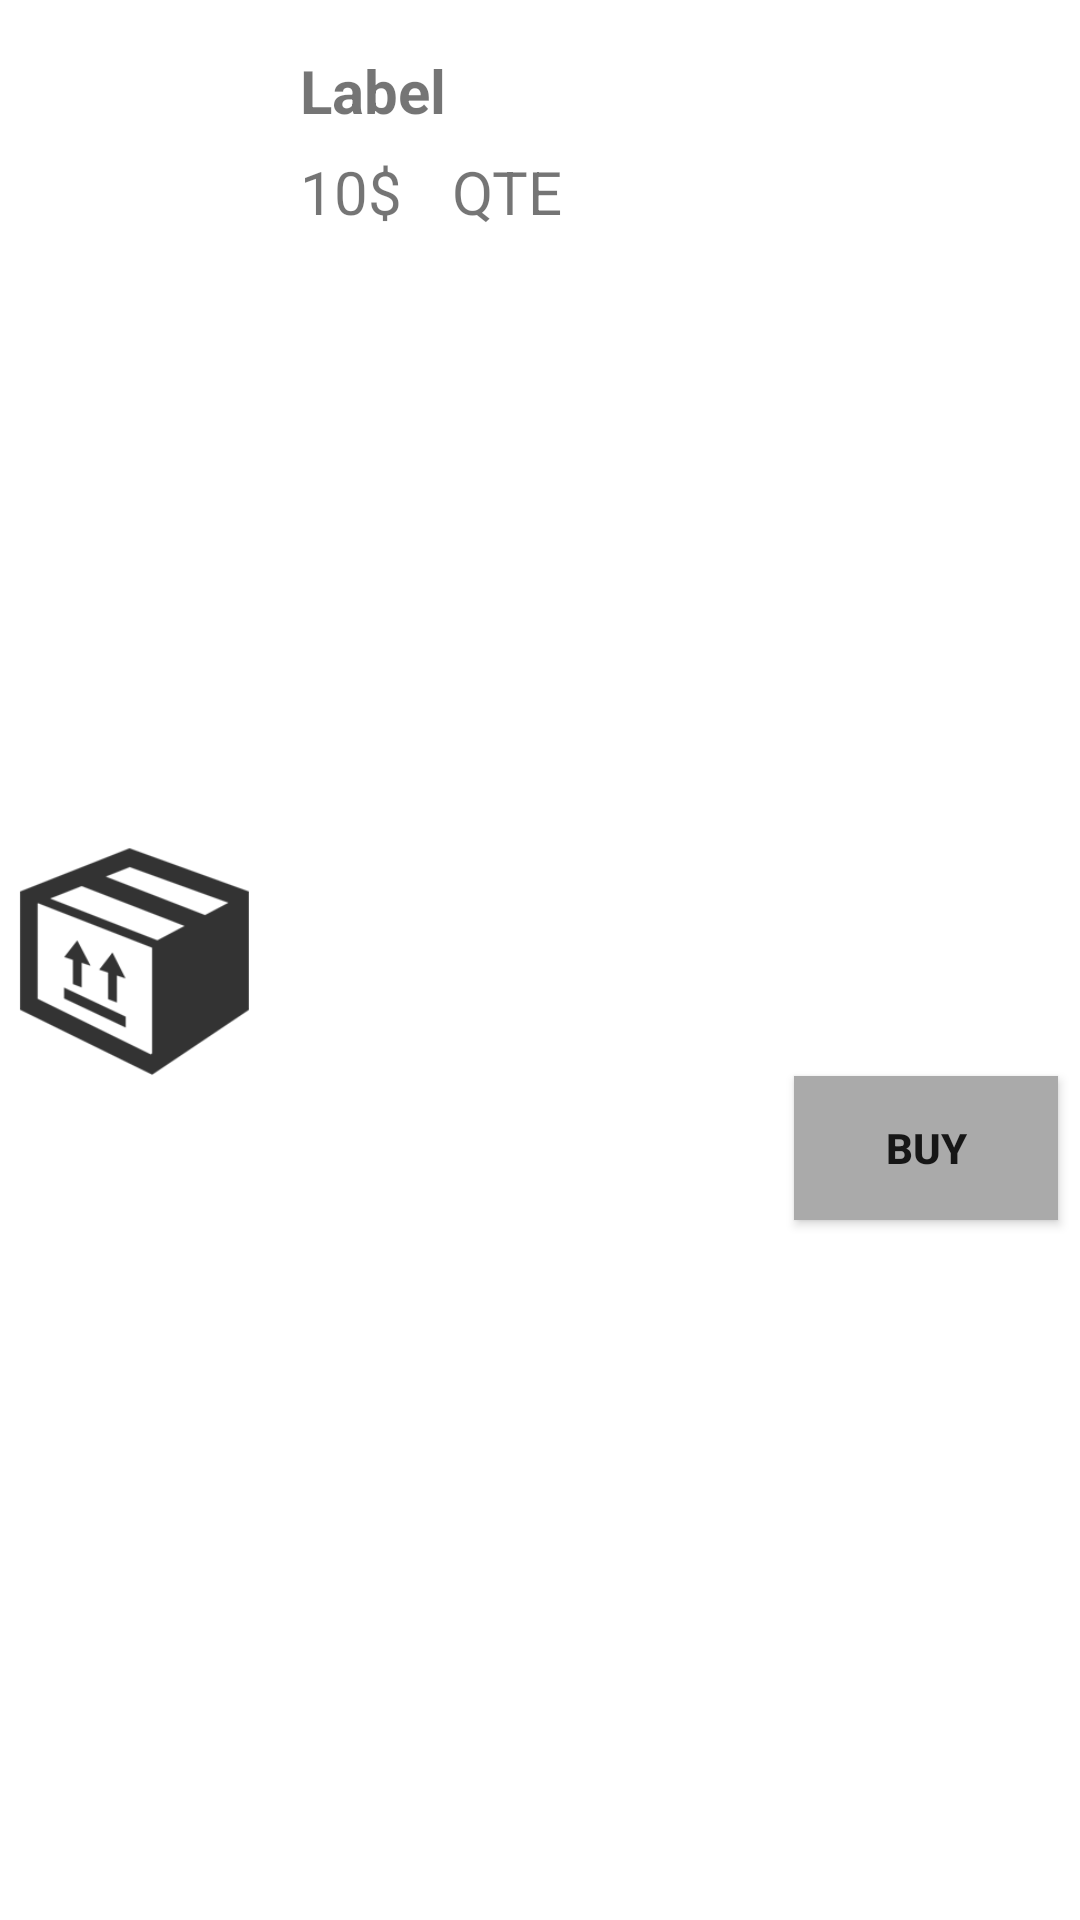

Icon bounding boxes for this 1080w x 1920h phone screenshot, format [left=x1, top=y1, right=x2, bottom=y2]:
prod: [left=20, top=848, right=249, bottom=1075]
